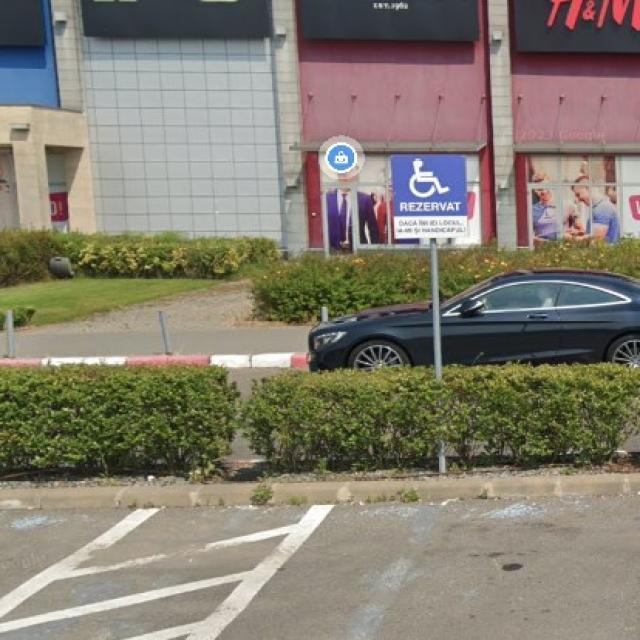symbol_of_access: (388, 151, 467, 216)
